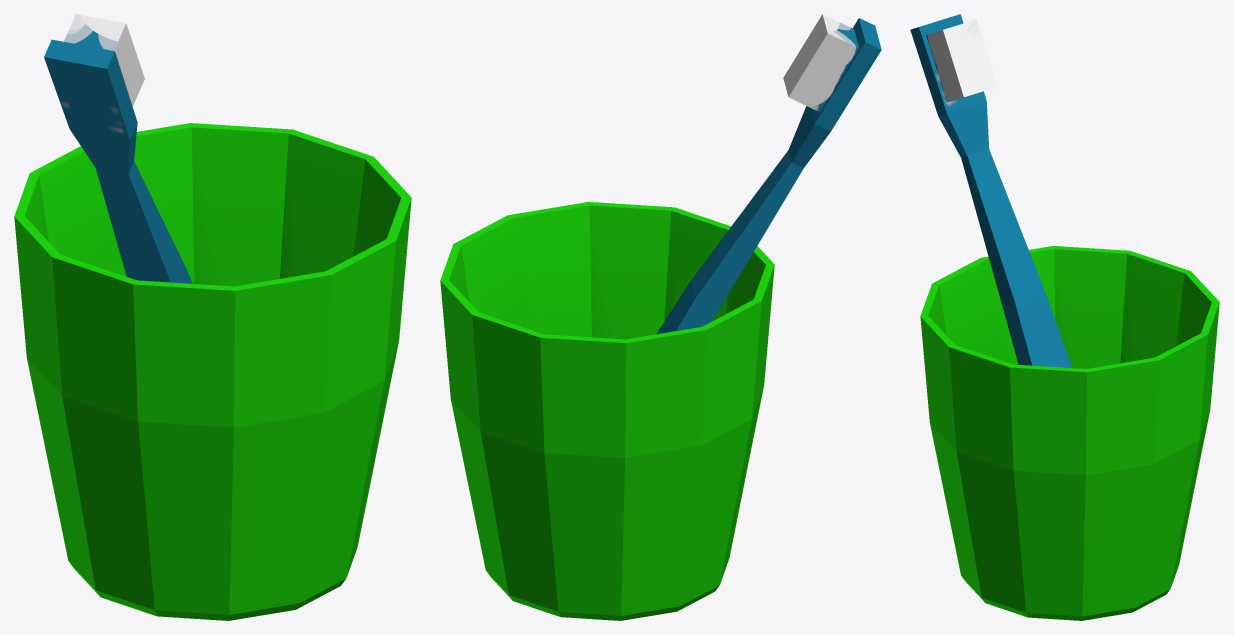
File: Spazzolino.fbx
The picture shows the model from 3 angles, left to right: view 1: azimuth 30°, elevation 25°; view 2: azimuth 150°, elevation 25°; view 3: azimuth 270°, elevation 25°; orthographic projection. The views are drawn at different scales.
Parts seen in each view (by area): view 1: Bicchiere, Plane; view 2: Bicchiere, Plane; view 3: Bicchiere, Plane.
Boxes of the visible parts, x1=… form: Bicchiere: x1=14, y1=123, x2=411, y2=620; Plane: x1=44, y1=14, x2=192, y2=283; Bicchiere: x1=440, y1=202, x2=774, y2=620; Plane: x1=656, y1=14, x2=881, y2=334; Bicchiere: x1=920, y1=246, x2=1219, y2=620; Plane: x1=910, y1=14, x2=1072, y2=368.
Bounding box in the file's own units: 12.93 × 18.92 × 10.97.
